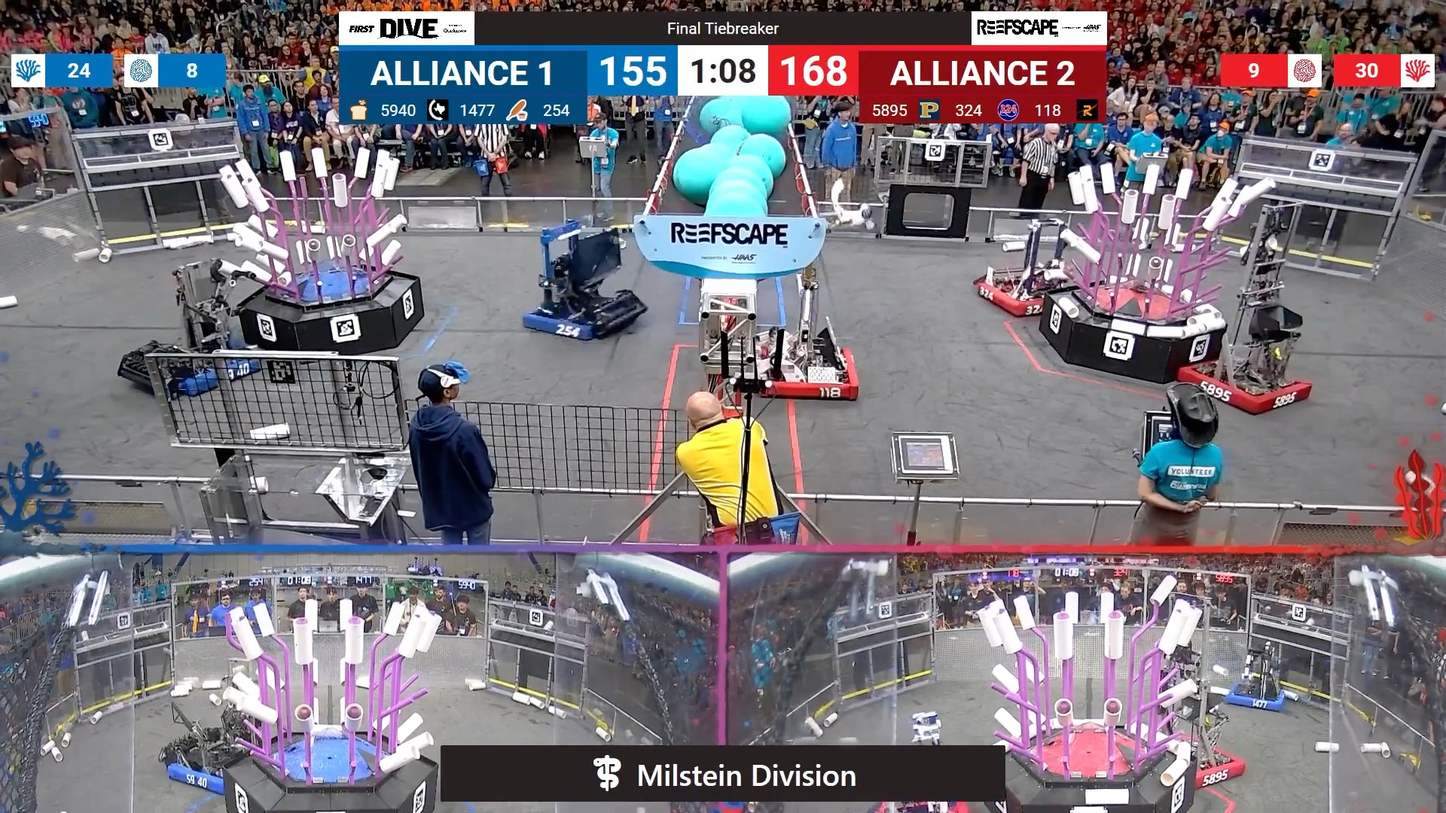bumpers: (1174, 356, 1320, 420), (135, 341, 269, 398), (755, 343, 866, 407), (515, 293, 644, 346), (974, 270, 1058, 324), (157, 743, 248, 792), (1175, 740, 1249, 789), (1213, 683, 1292, 716), (861, 797, 976, 813)
